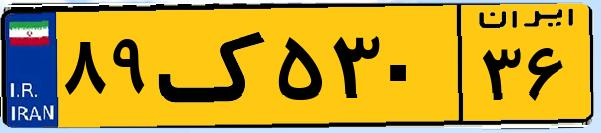0: (385, 28, 445, 110)
3: (330, 28, 385, 110), (475, 38, 525, 113)
5: (270, 28, 330, 110)
6: (525, 38, 570, 115)
8: (57, 26, 110, 100)
9: (110, 28, 158, 98)
ک: (158, 12, 270, 120)
